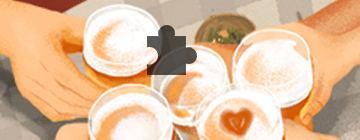target: (147, 25, 197, 75)
